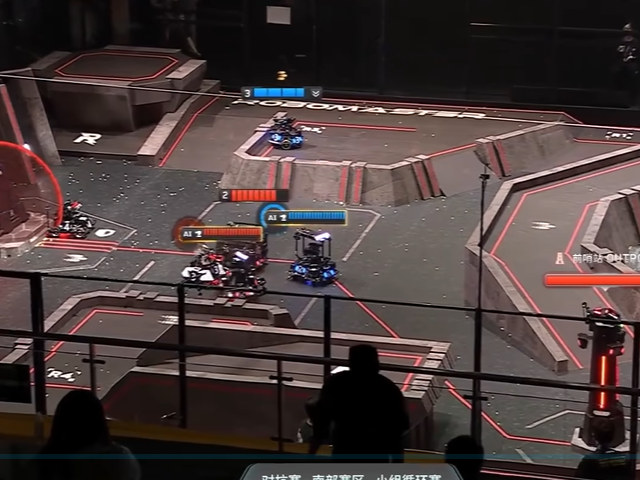rm: (287, 228, 341, 288), (181, 240, 230, 286), (216, 230, 273, 269), (214, 271, 264, 309), (59, 200, 95, 239), (267, 115, 304, 150)
